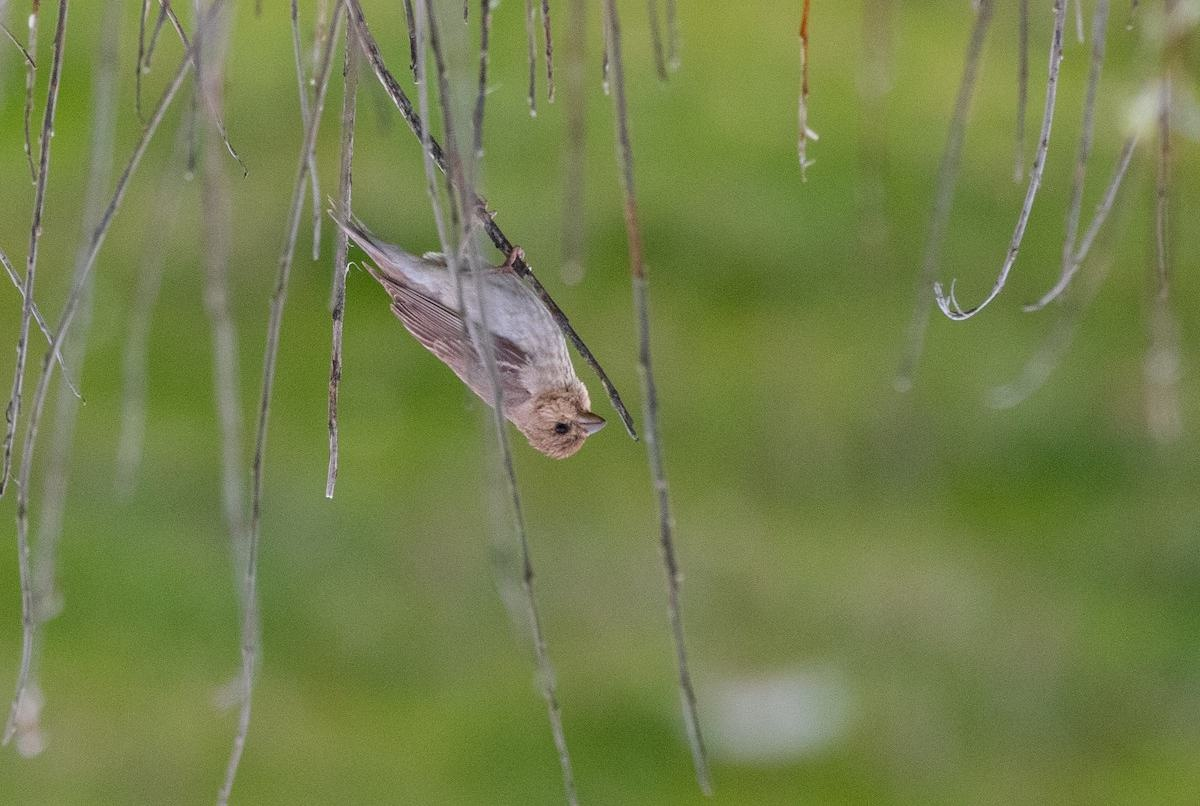rosefinch: (384, 194, 613, 469)
